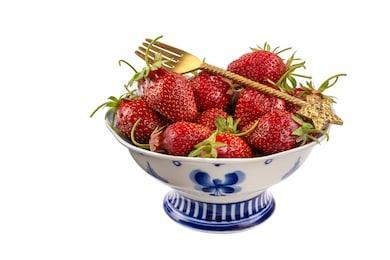Fresa: (138, 59, 201, 127), (238, 104, 313, 157), (224, 44, 292, 92), (111, 93, 169, 148), (148, 117, 216, 160), (197, 128, 258, 166)
